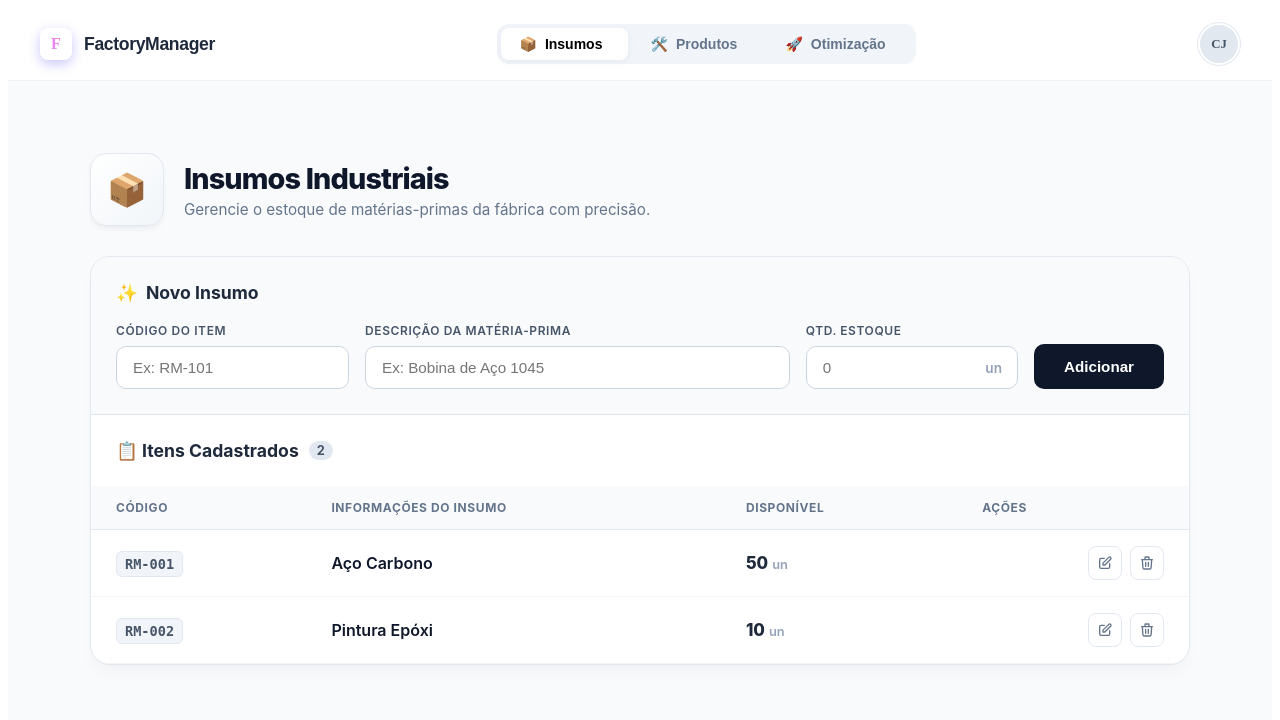
Test: Módulo de Insumos Industriais › Deve validar campos obrigatórios ao adicionar
The width and height of the screenshot is (1280, 720).
Step 1. Click the button with test id "btn-rm-save" → [1099, 367], box [1034,344,1164,389]
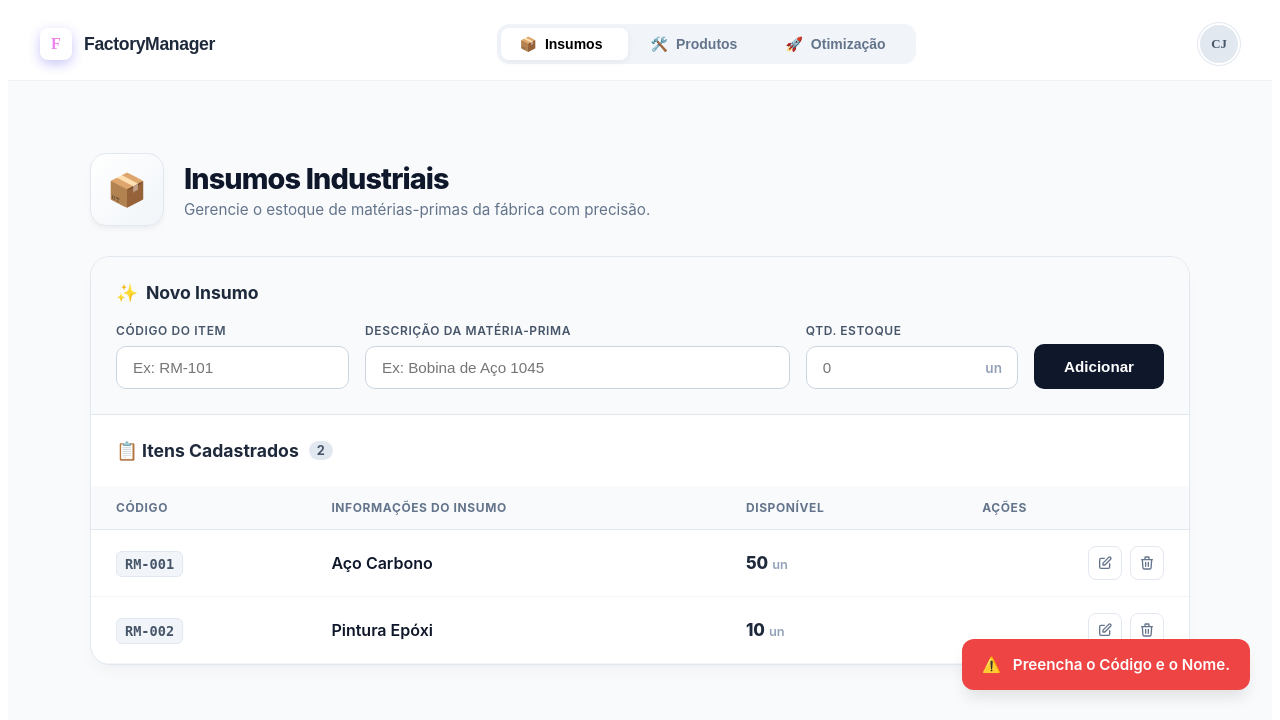
Now the text with class "toast-error" shows "Preencha o Código e o Nome", box [1013,655,1230,674]
